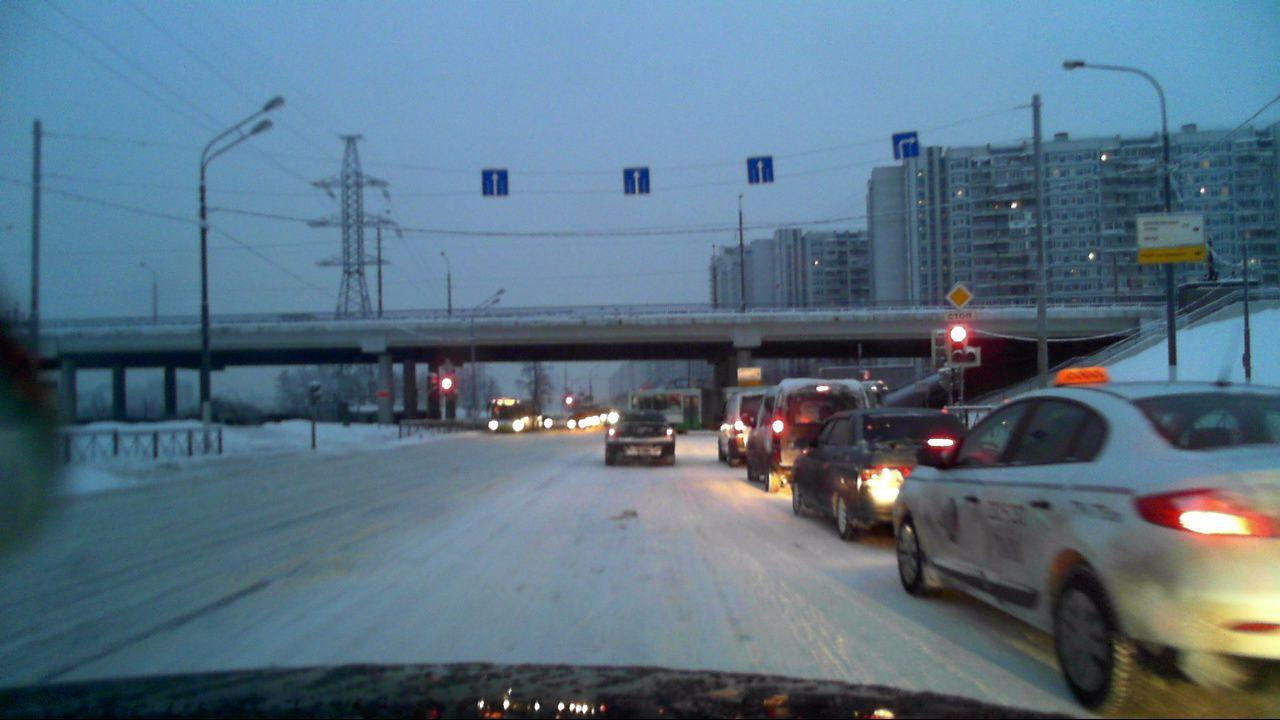2_1: (946, 281, 973, 313)
5_15_2: (746, 155, 775, 185), (624, 167, 653, 196), (480, 166, 507, 196), (893, 129, 919, 157)
6_16: (946, 311, 976, 322)
